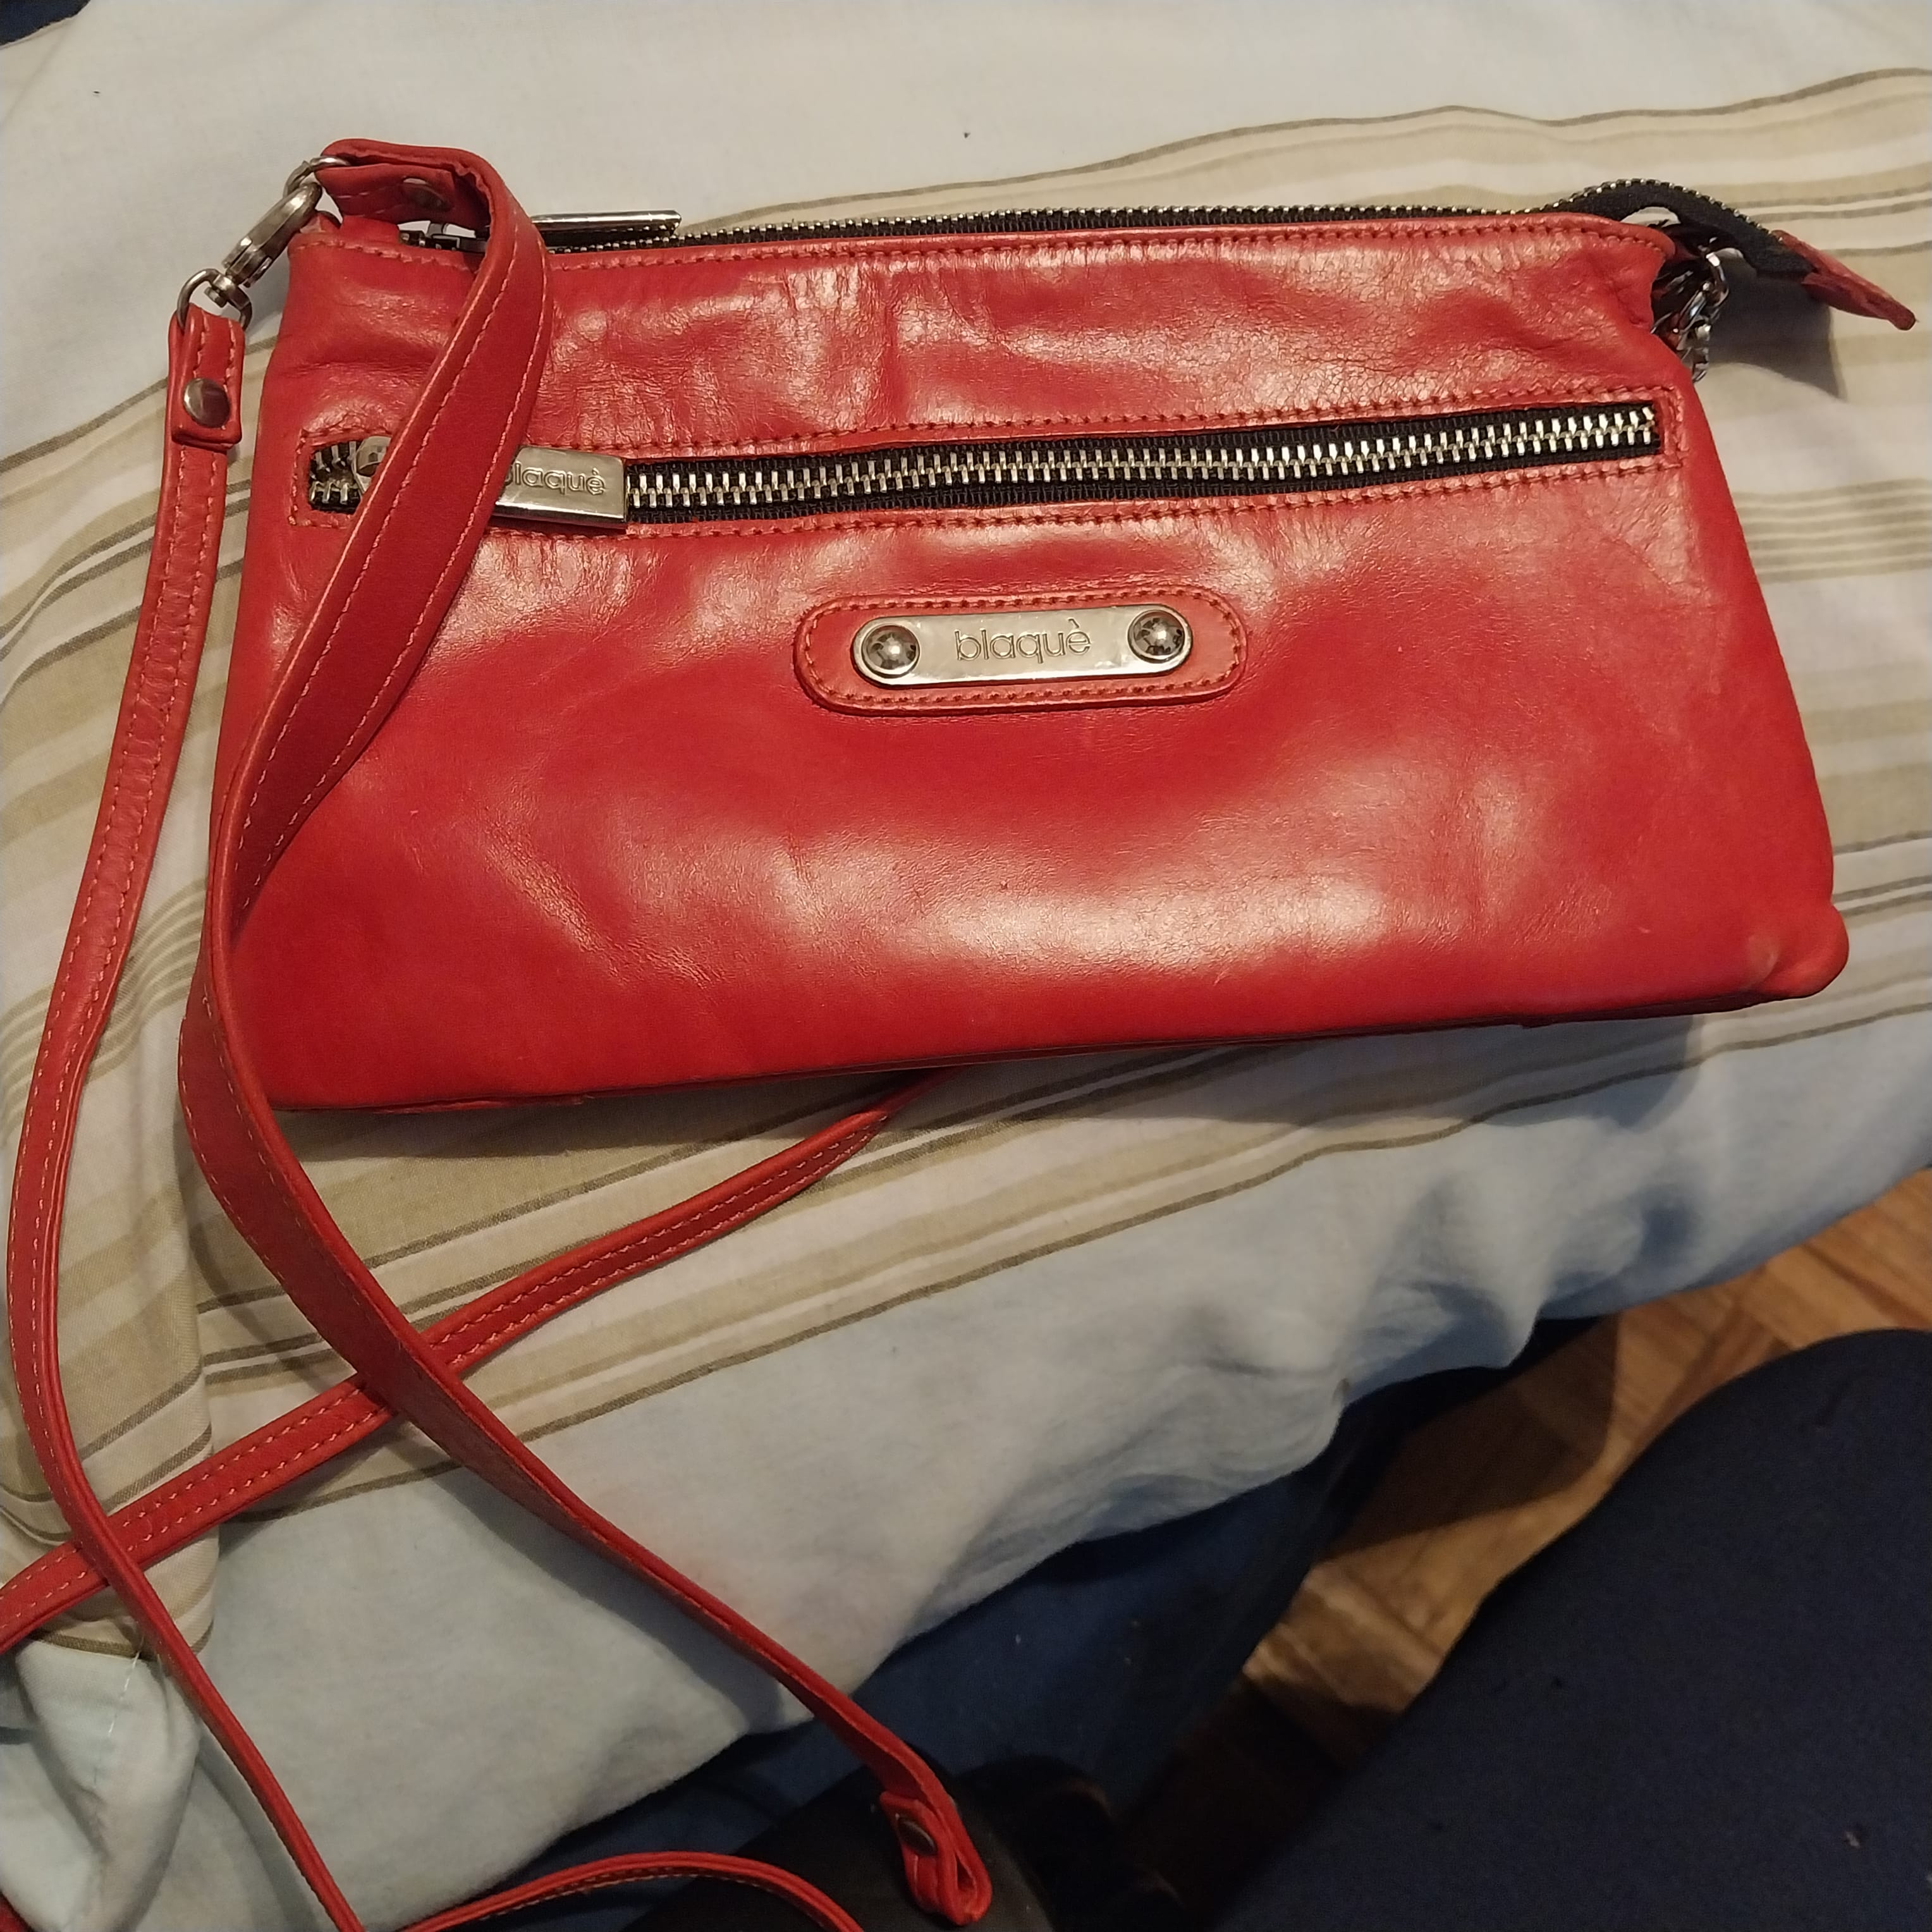cartera: (242, 241, 1810, 1079)
cuero: (396, 736, 1647, 991)
